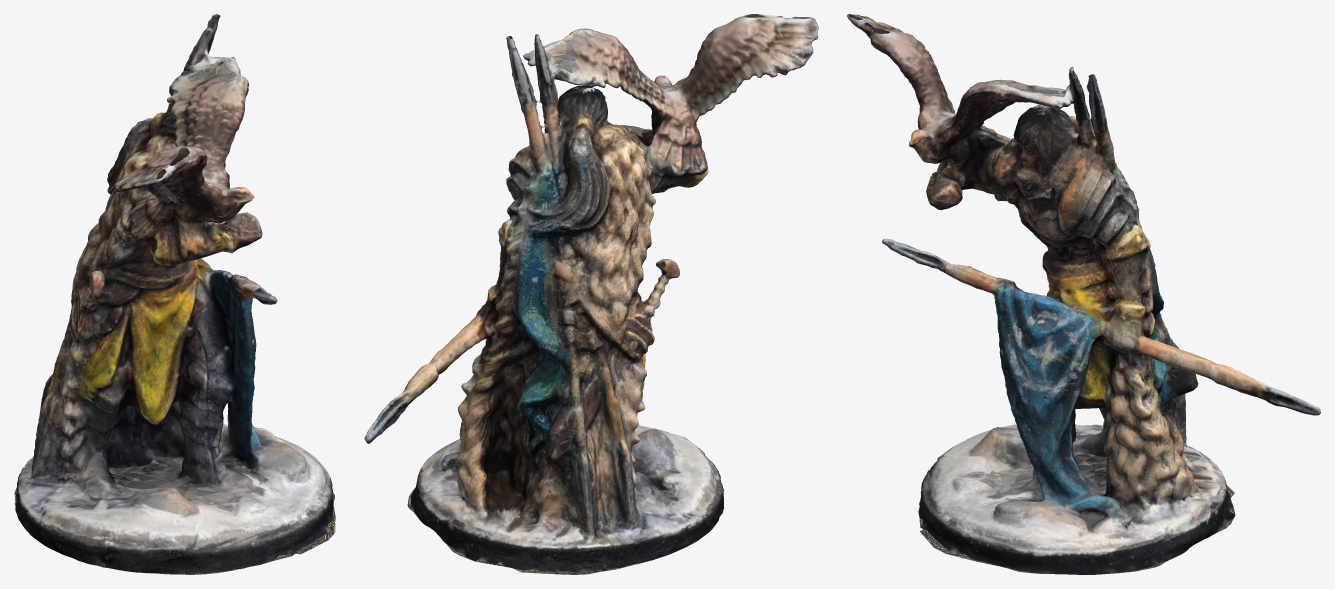
Rendered from Bannerspear.glb.
The picture shows the model from 3 angles, left to right: view 1: azimuth 30°, elevation 25°; view 2: azimuth 150°, elevation 25°; view 3: azimuth 270°, elevation 25°; orthographic projection. The views are drawn at different scales.
Visible parts, largest first — view 1: bannerspear; view 2: bannerspear; view 3: bannerspear.
Part boxes in pixels (box(x1,y1,x2,y2)): bannerspear: box(14, 14, 335, 574); bannerspear: box(364, 14, 818, 574); bannerspear: box(847, 14, 1320, 574).
Size of the model in its own units: 7.94 by 12.32 by 11.57.
Materials: 1 (1 with a texture image).
